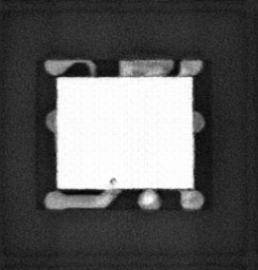DIE_INK: (108, 176, 117, 185)
